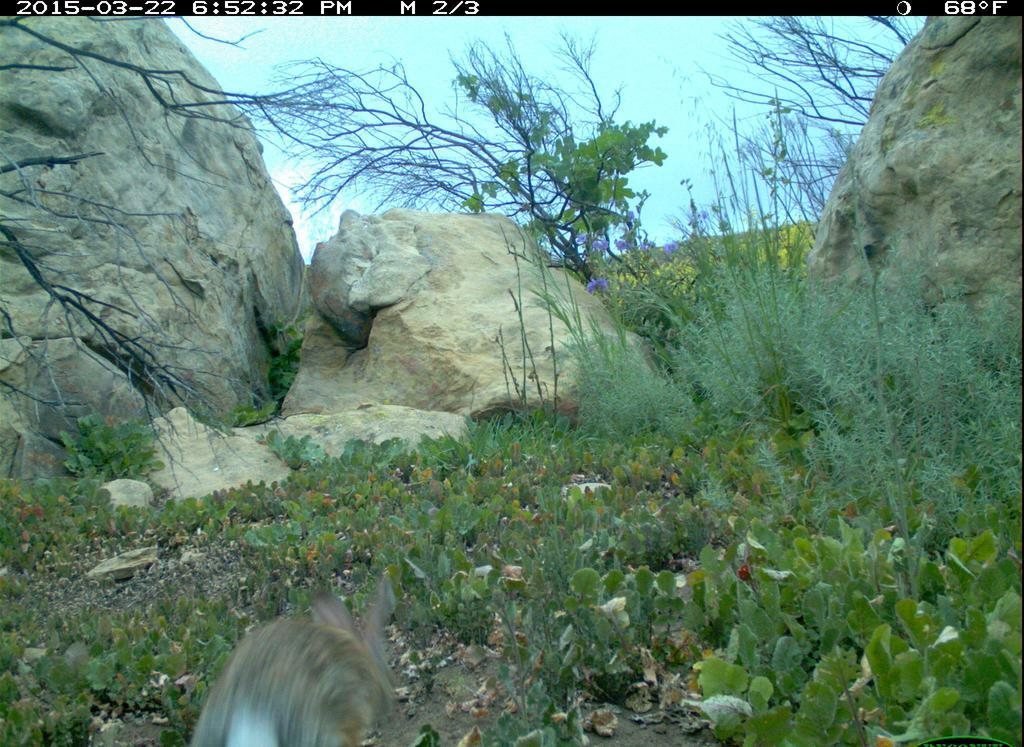rabbit: (182, 559, 427, 747)
